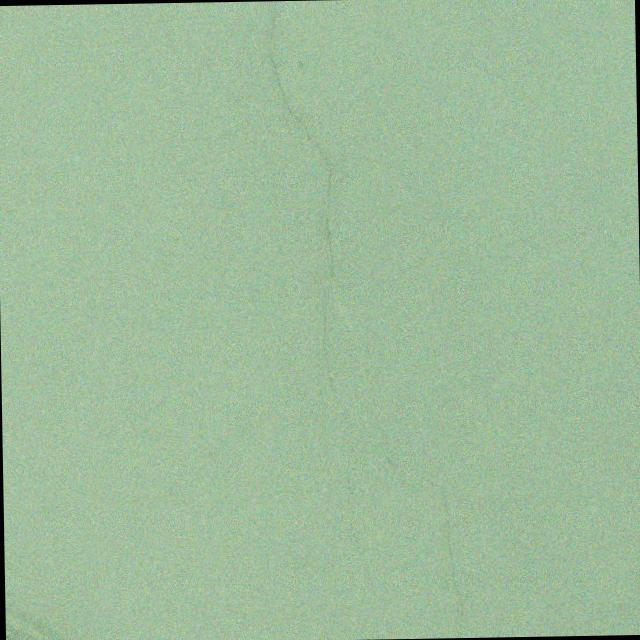crack: (266, 0, 365, 459), (342, 358, 464, 640)
